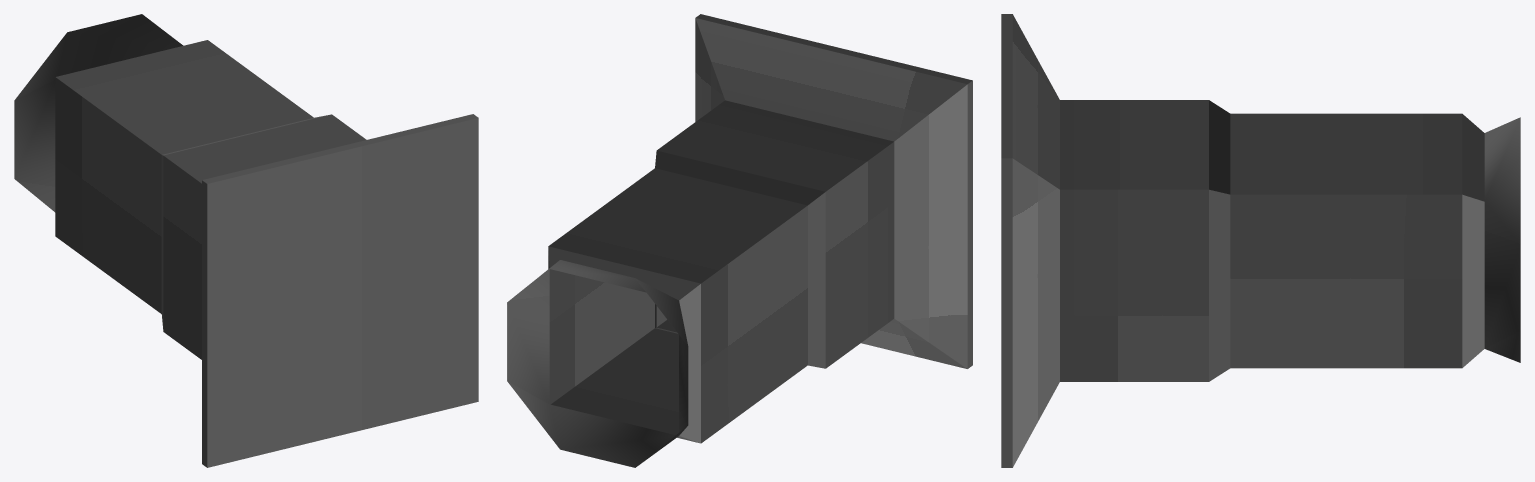
File: stat_top10.glb
The picture shows the model from 3 angles, left to right: view 1: azimuth 30°, elevation 25°; view 2: azimuth 150°, elevation 25°; view 3: azimuth 270°, elevation 25°; orthographic projection. The views are drawn at different scales.
Parts seen in each view (by area): view 1: group_19; view 2: group_19; view 3: group_19.
Part boxes in pixels (box(x1,y1,x2,y2)): group_19: box(14, 14, 478, 467); group_19: box(507, 14, 972, 467); group_19: box(1001, 14, 1520, 467).
Size of the model in its own units: 11360 by 11359 by 17279.
Materials: 2 (2 with a texture image).
